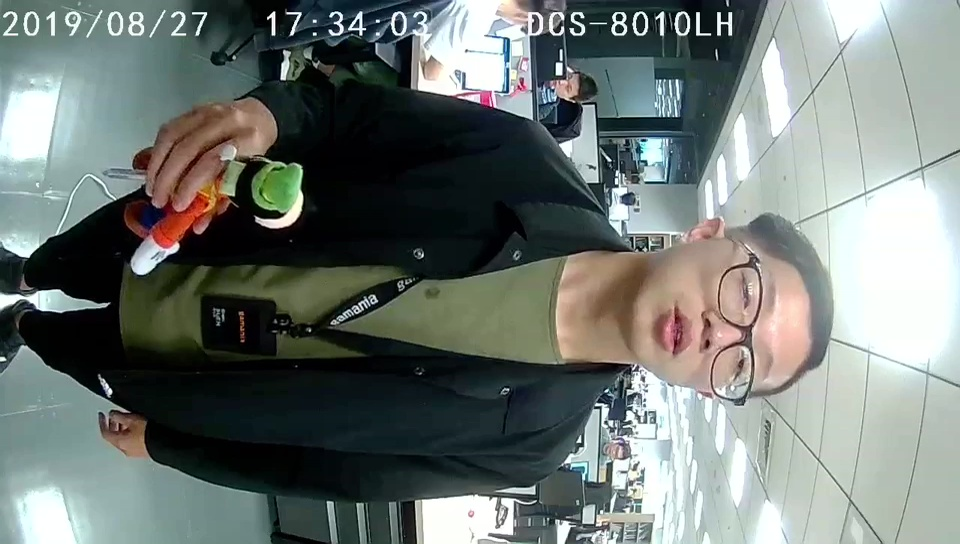goofy: (125, 144, 305, 277)
